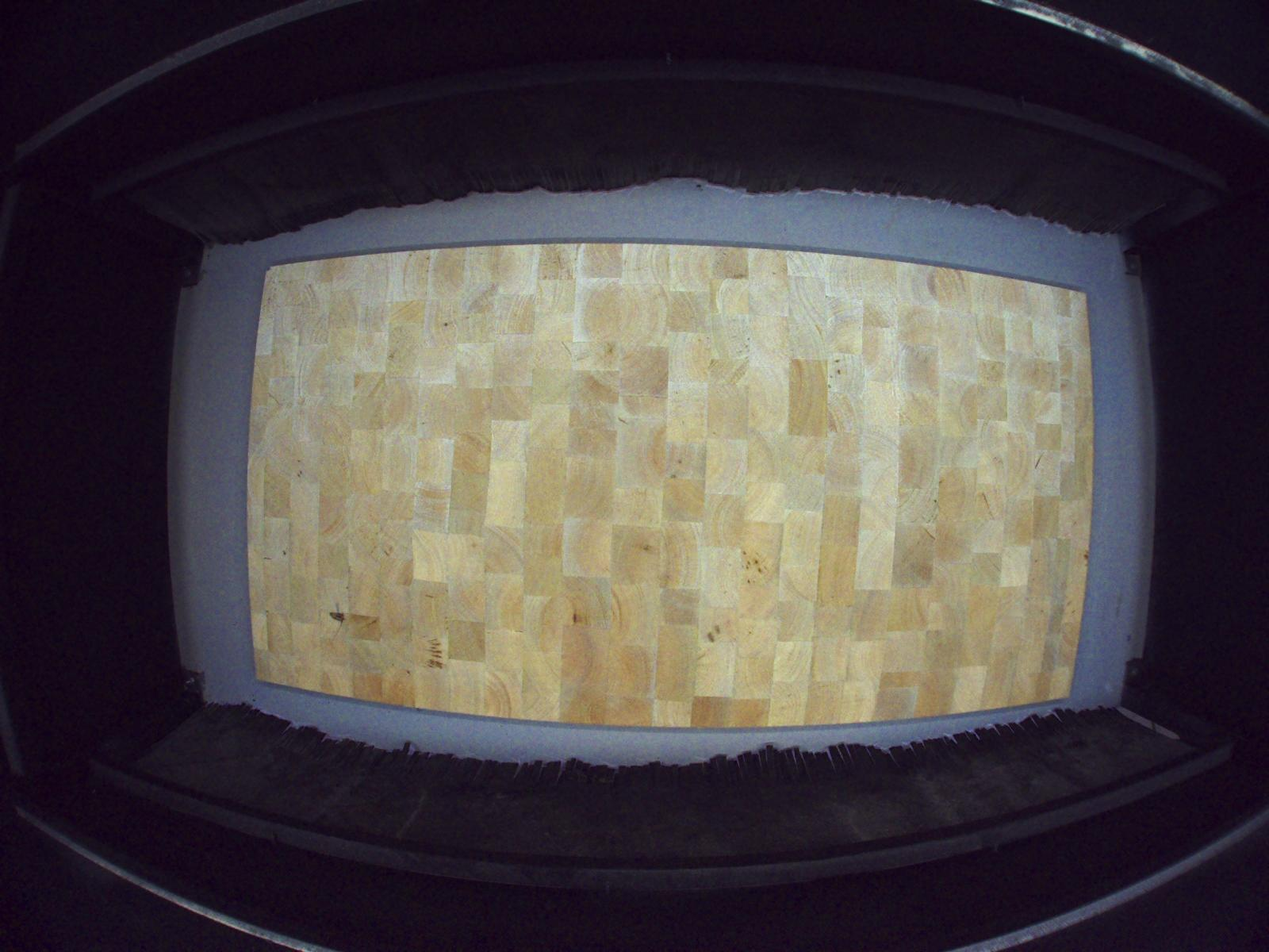sheck_ecuatoriano: (328, 610, 346, 638)
